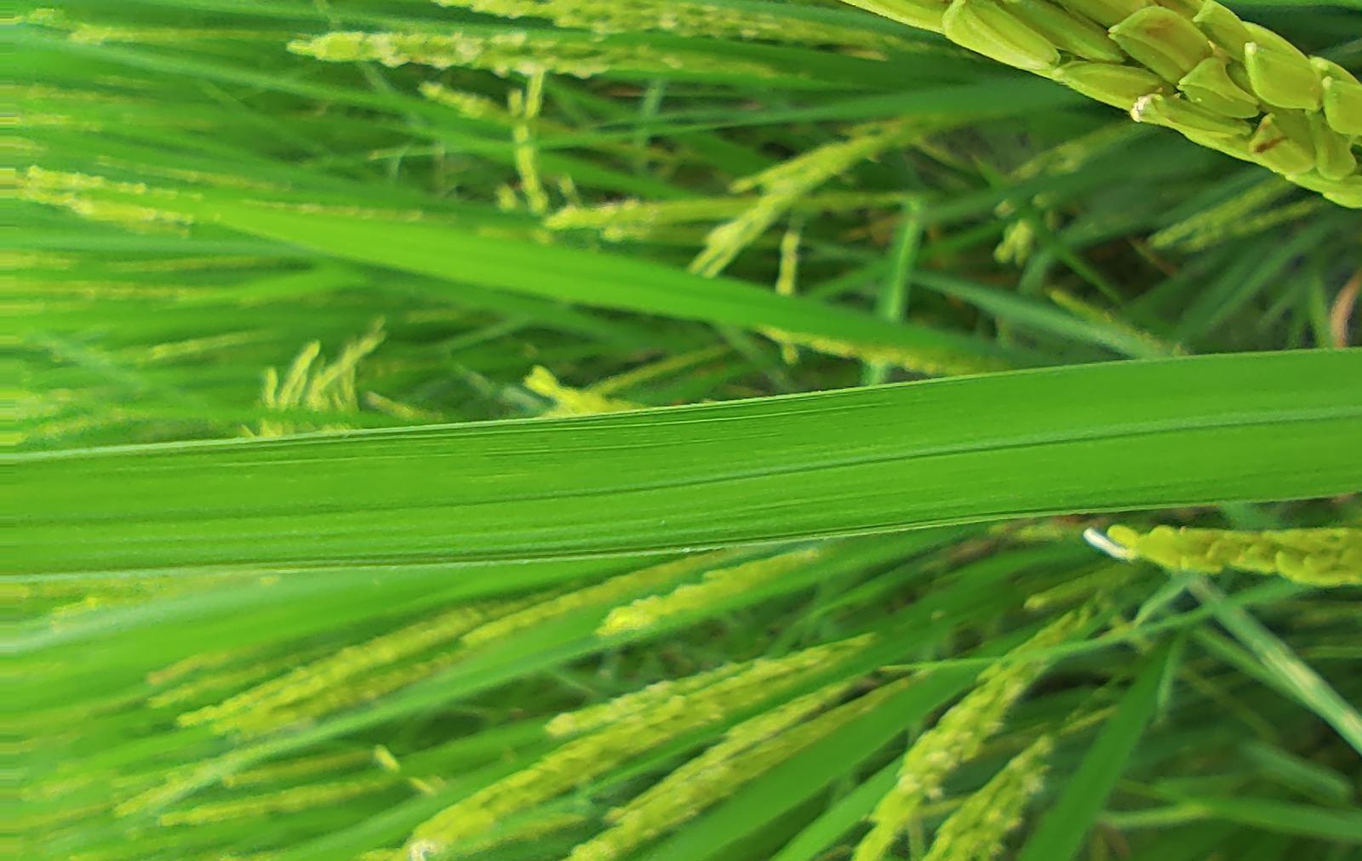Healthy: (19, 349, 1361, 579)
